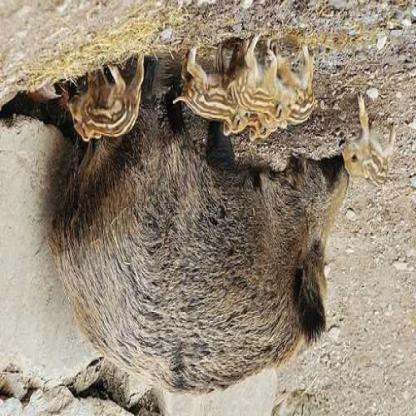boar: (45, 88, 363, 387), (50, 36, 146, 150), (332, 105, 402, 201), (172, 44, 241, 138), (237, 47, 302, 119)
